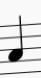A: (4, 12, 26, 76)
